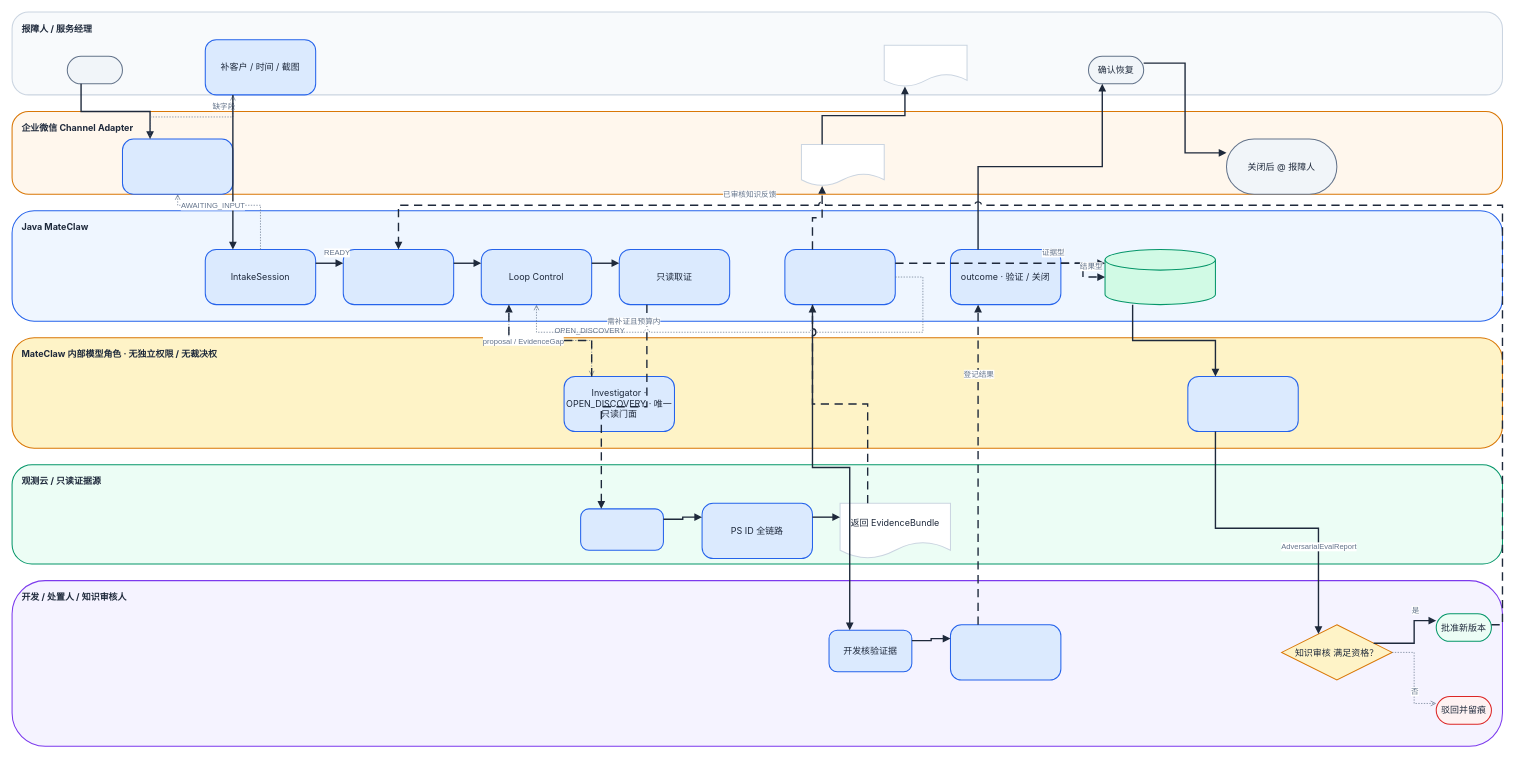
This 1521x759 diagram has some shape labels left out. Each missing label, with the centre of its shape:
"@ 助手报障" goes at [94,69].
"Candidate · 不可直接批准" goes at [1160,277].
"Evidence + Safety Challengers · P2 影子 / P5 Gate" goes at [1242,404].
"log_search" goes at [622,529].
"Verify Gate · 诊断 / 补证 / 弃权" goes at [839,277].
"三类路径 · 权威 / 预算" goes at [398,277].
"人工处置 系统不执行" goes at [1005,652].
"原路回执进展" goes at [842,165].
"确认收到 / 补问" goes at [177,166].
"阅读业务摘要" goes at [925,65].
